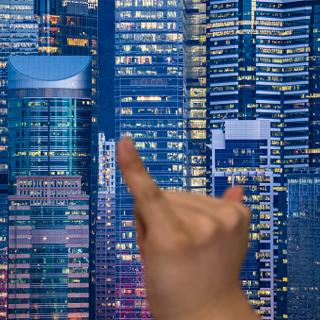HAVE: (111, 133, 271, 320)
